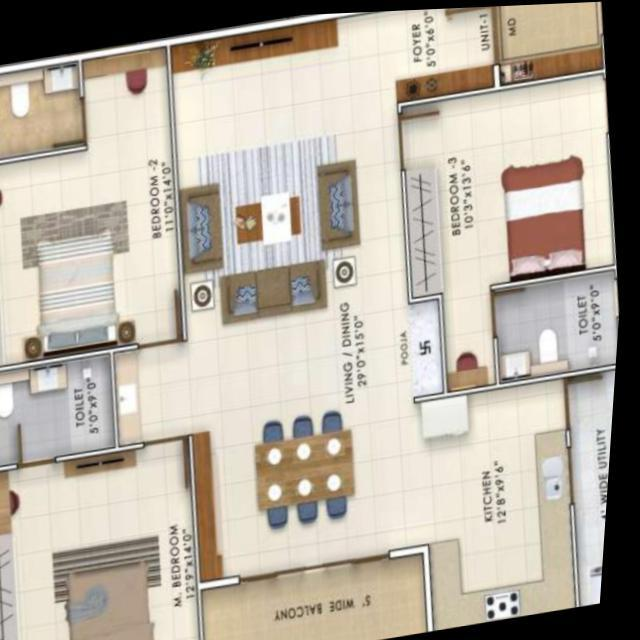Balcony-Sitout: (212, 551, 437, 640)
Bedroom with Toilet: (400, 71, 624, 395), (0, 37, 192, 364), (0, 347, 212, 640)
Dining: (247, 394, 378, 536)
Enterance-Foyer: (393, 1, 608, 101)
Kitchen: (429, 378, 585, 629)
Living: (173, 9, 411, 332)
Pooja: (401, 298, 450, 397)
Toilet: (0, 348, 122, 462), (501, 270, 624, 381), (0, 56, 86, 153)
Utility: (574, 369, 621, 606)
